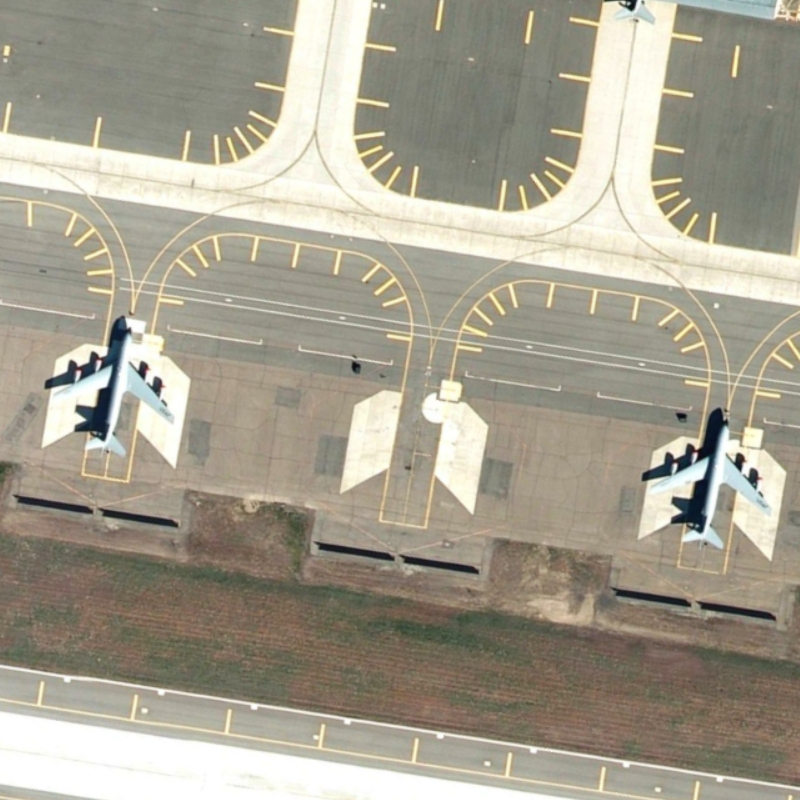A11: (41, 312, 187, 462), (639, 400, 776, 552)
